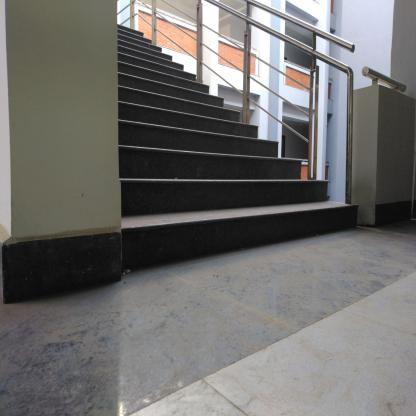stairs: (125, 85, 210, 279)
